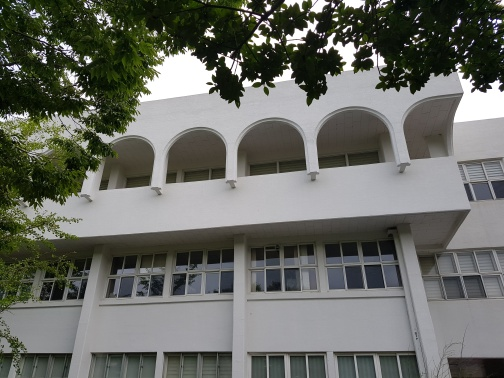Main Building of University: (39, 32, 503, 365), (160, 101, 402, 202)
